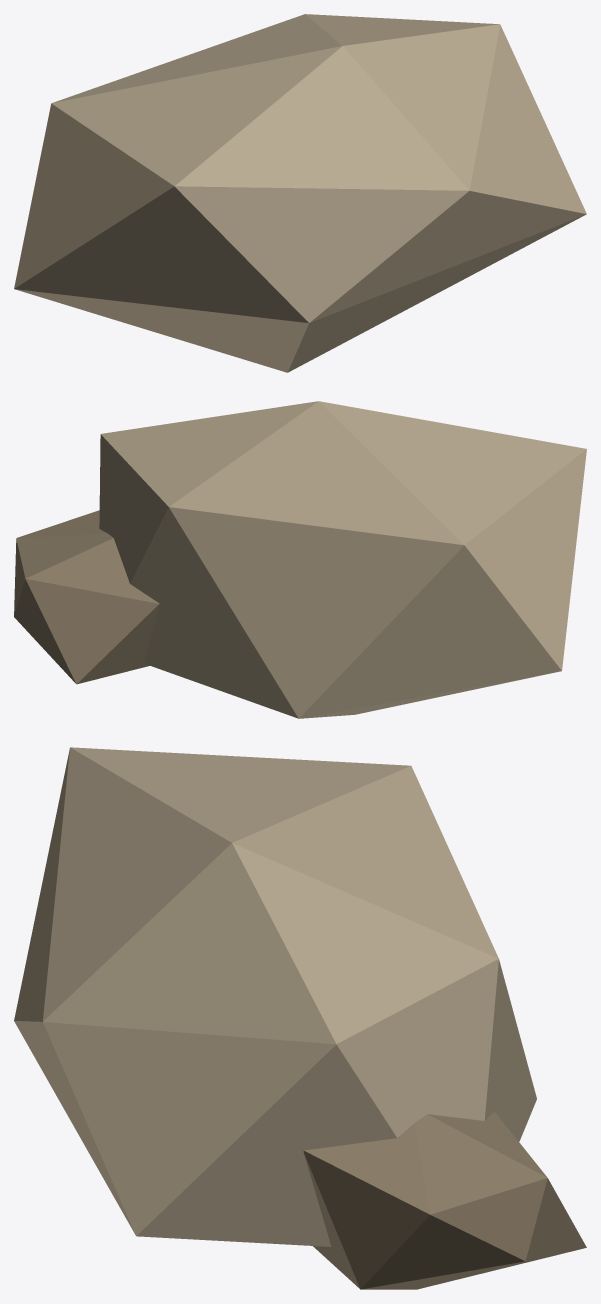
The model's file is rock1.glb.
3 views of the same model, one above another, from view 1: azimuth 30°, elevation 25°; view 2: azimuth 150°, elevation 25°; view 3: azimuth 270°, elevation 25° (orthographic). The views are drawn at different scales.
Visible parts, largest first — view 1: rock1; view 2: rock1; view 3: rock1.
Boxes of the visible parts, box(x1,y1,x2,y2) form: rock1: box(14, 14, 586, 372); rock1: box(14, 401, 586, 718); rock1: box(14, 747, 586, 1289).
Bounding box in the file's own units: 1.67 × 0.9364 × 1.13.
